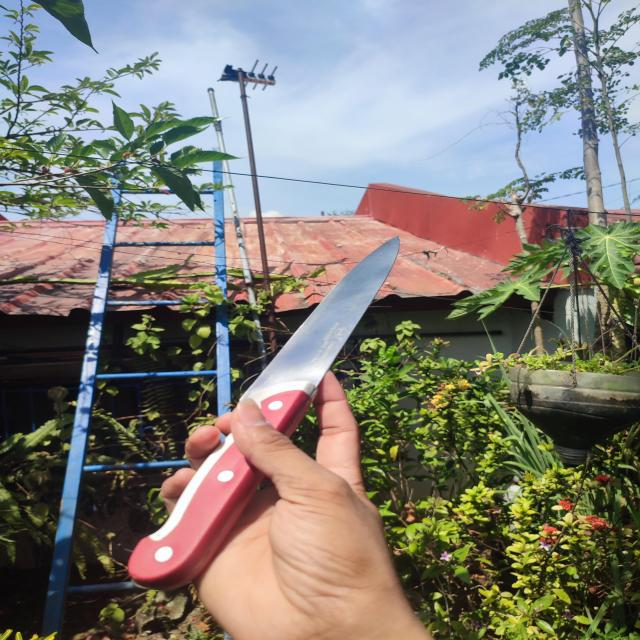knife: (122, 235, 400, 590)
